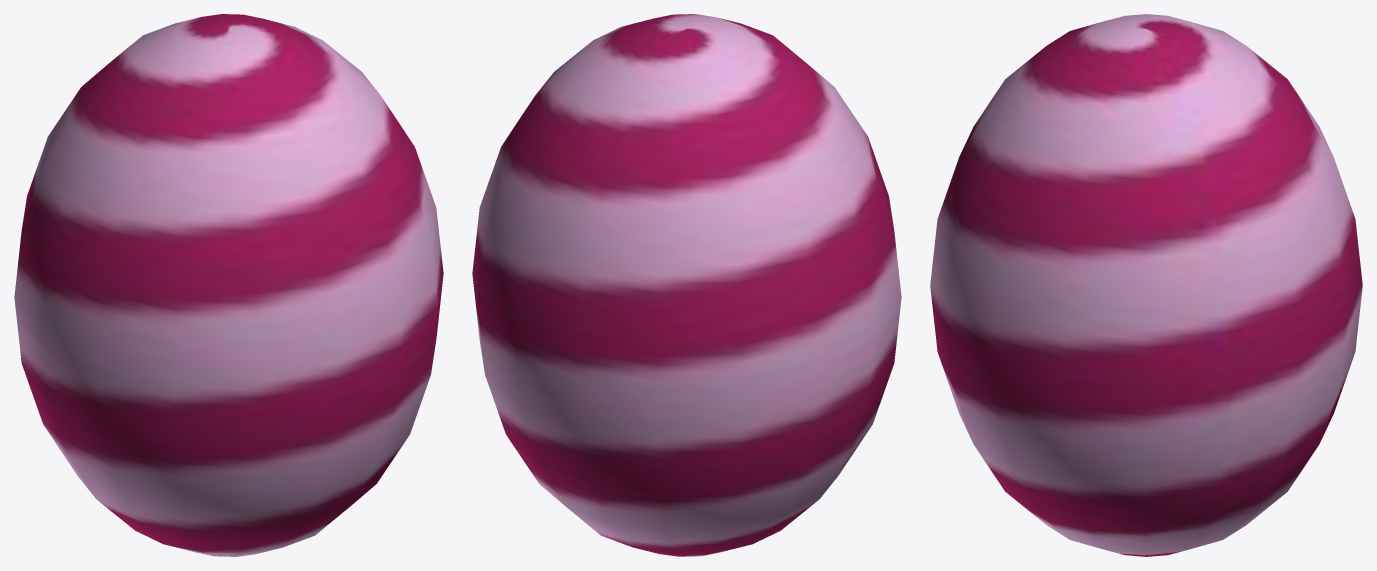
Rendered from egg_07.fbx.
3 renders of one model, left to right at view 1: azimuth 30°, elevation 25°; view 2: azimuth 150°, elevation 25°; view 3: azimuth 270°, elevation 25°, orthographic.
Parts seen in each view (by area): view 1: egg_07; view 2: egg_07; view 3: egg_07.
Boxes of the visible parts, bbox=[...] form: egg_07: bbox=[14, 14, 443, 556]; egg_07: bbox=[472, 14, 901, 556]; egg_07: bbox=[930, 14, 1362, 556].
Bounding box in the file's own units: 9.95 × 13.02 × 9.95.
